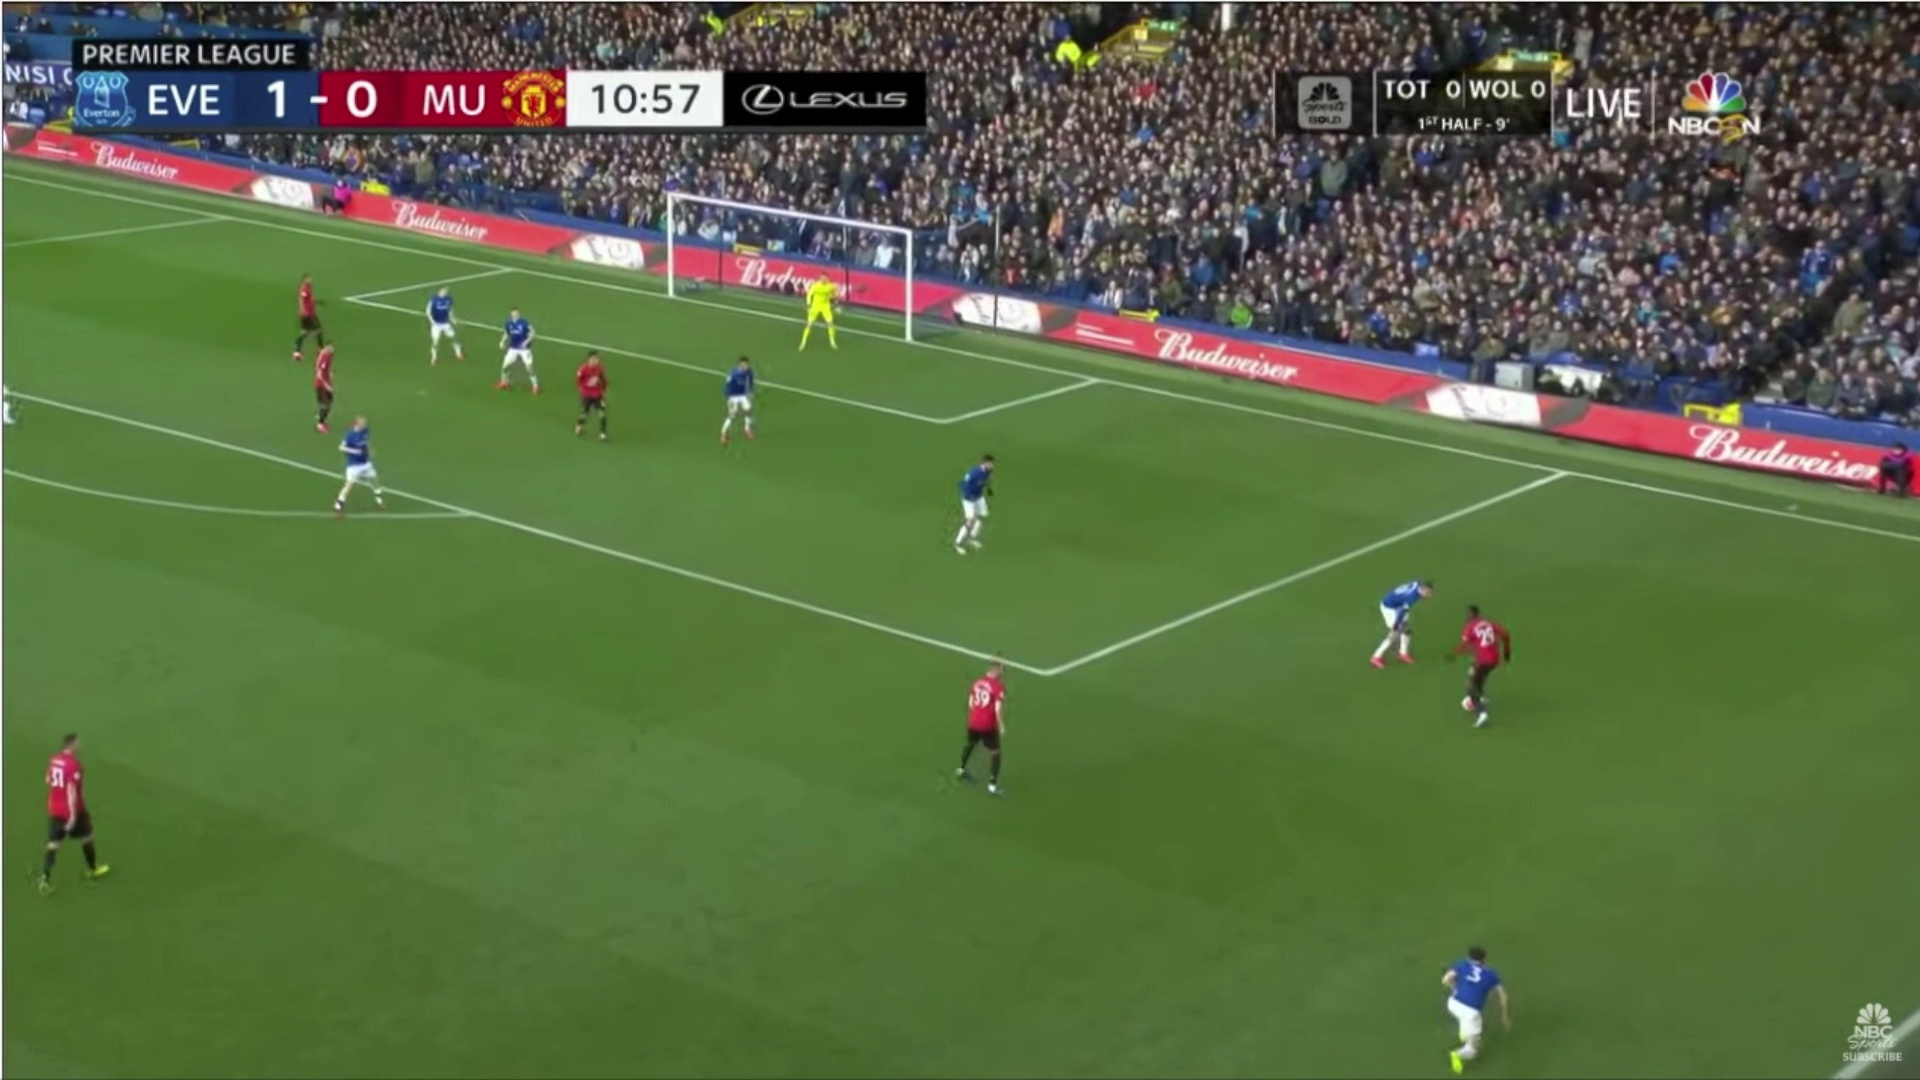ball: (1454, 685, 1483, 725)
player: (27, 704, 124, 917), (943, 642, 1045, 810), (1414, 929, 1521, 1080), (1449, 594, 1524, 744), (1364, 567, 1435, 685), (706, 342, 775, 454), (943, 440, 1010, 554), (487, 298, 552, 410), (337, 404, 395, 527), (568, 340, 629, 446), (275, 262, 339, 362), (414, 279, 472, 377), (793, 269, 847, 362), (308, 340, 347, 431)
